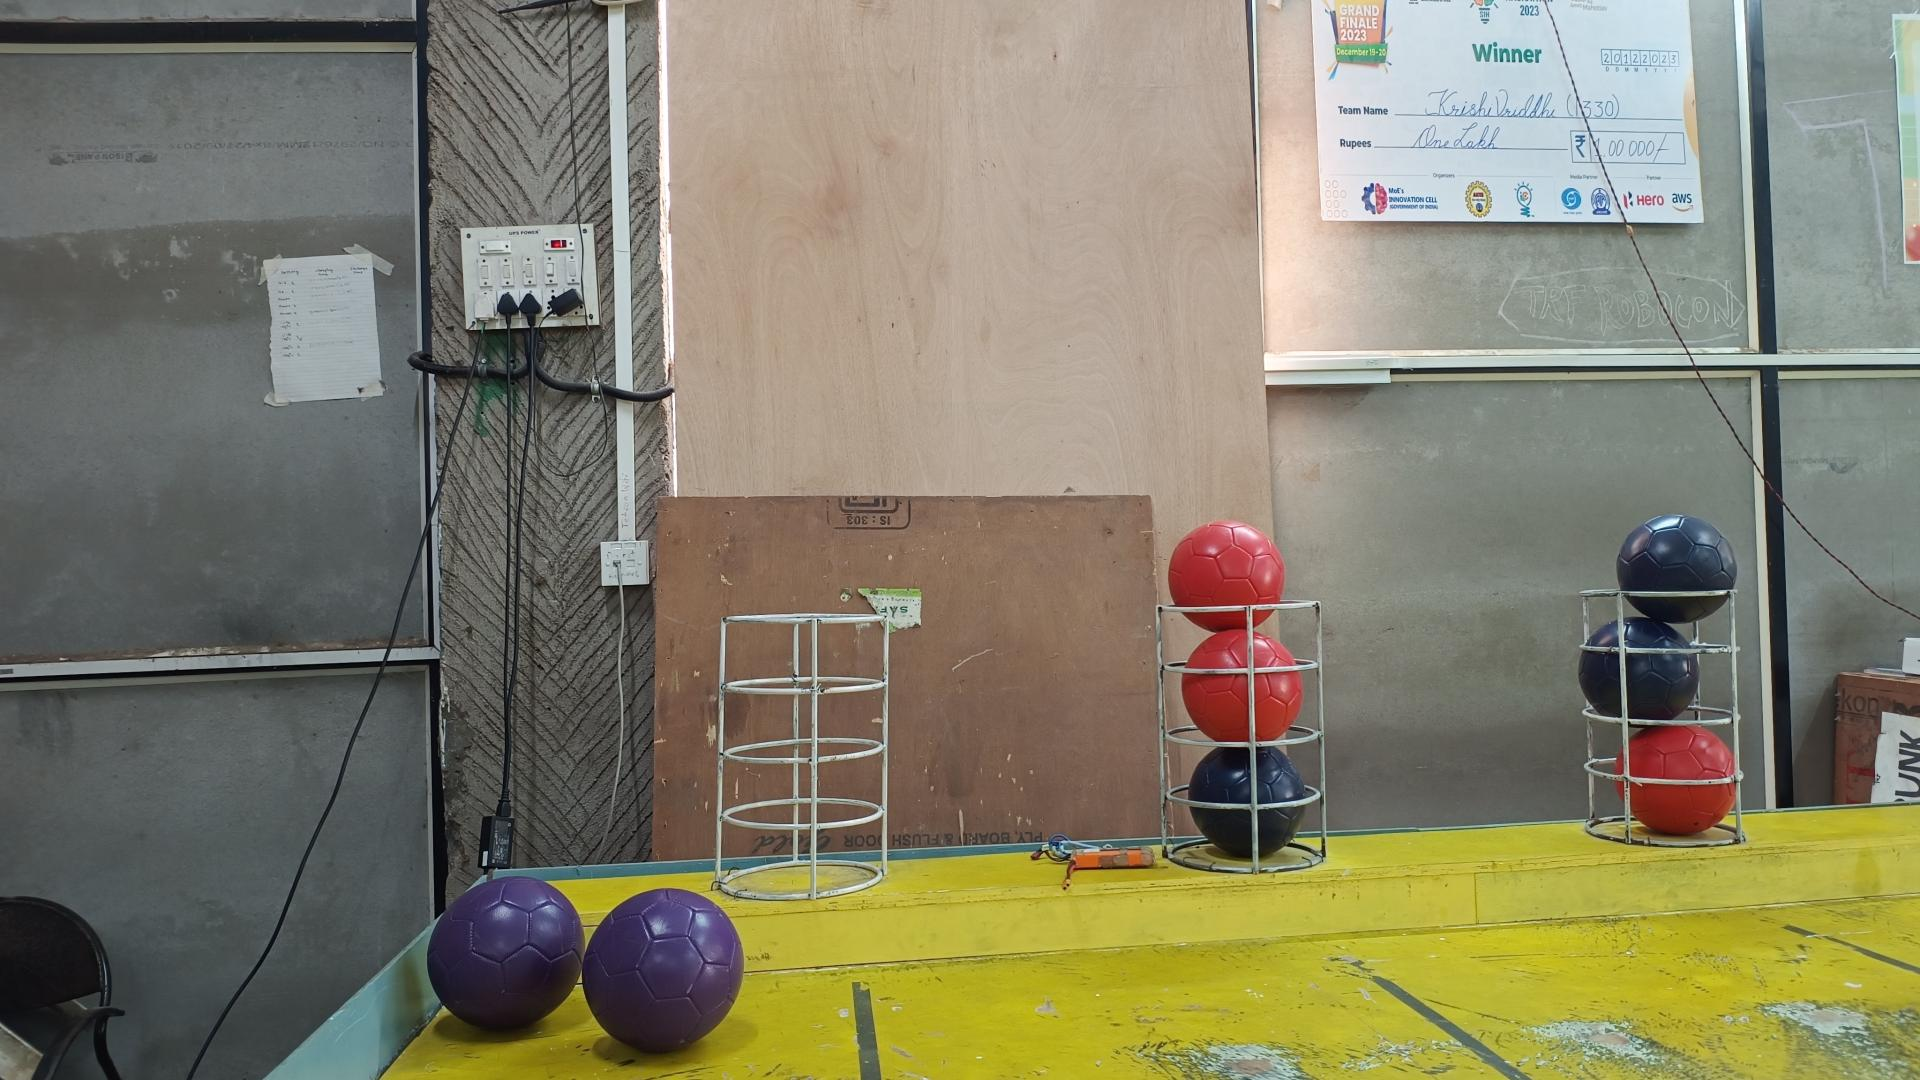dhoka: (1187, 745, 1307, 858), (1575, 615, 1698, 720), (1617, 514, 1737, 622)
laale: (1613, 724, 1737, 836), (1183, 629, 1303, 741), (1168, 522, 1284, 630)
